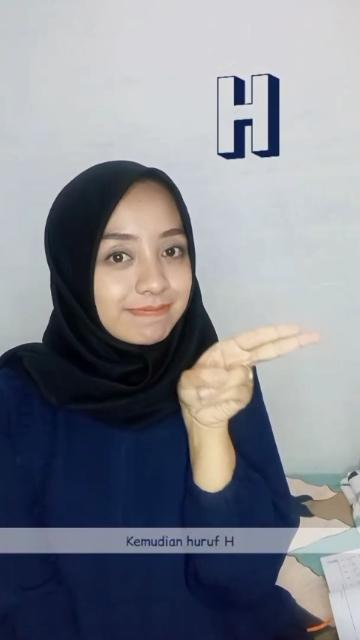H: (175, 317, 327, 429)
